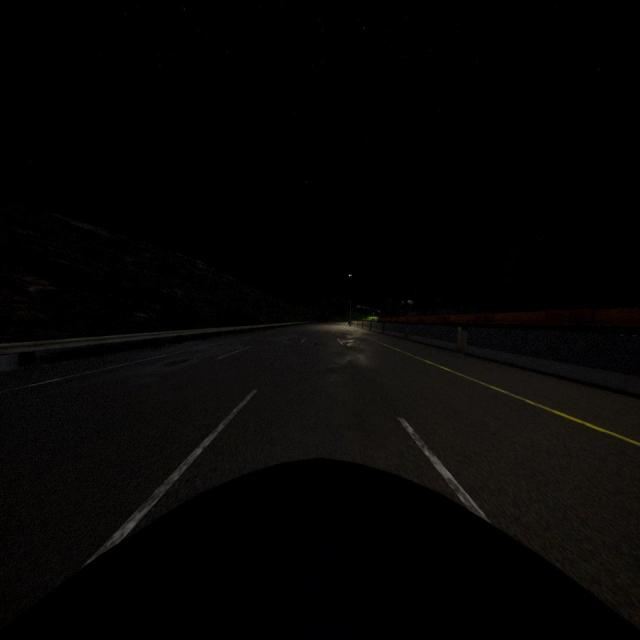Vehicle: (0, 461, 640, 640)
